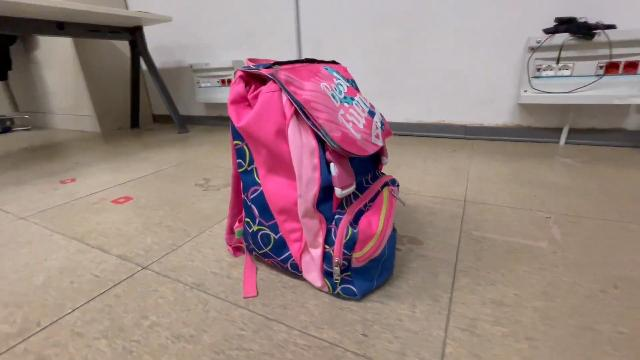Backpack: (220, 51, 408, 315)
